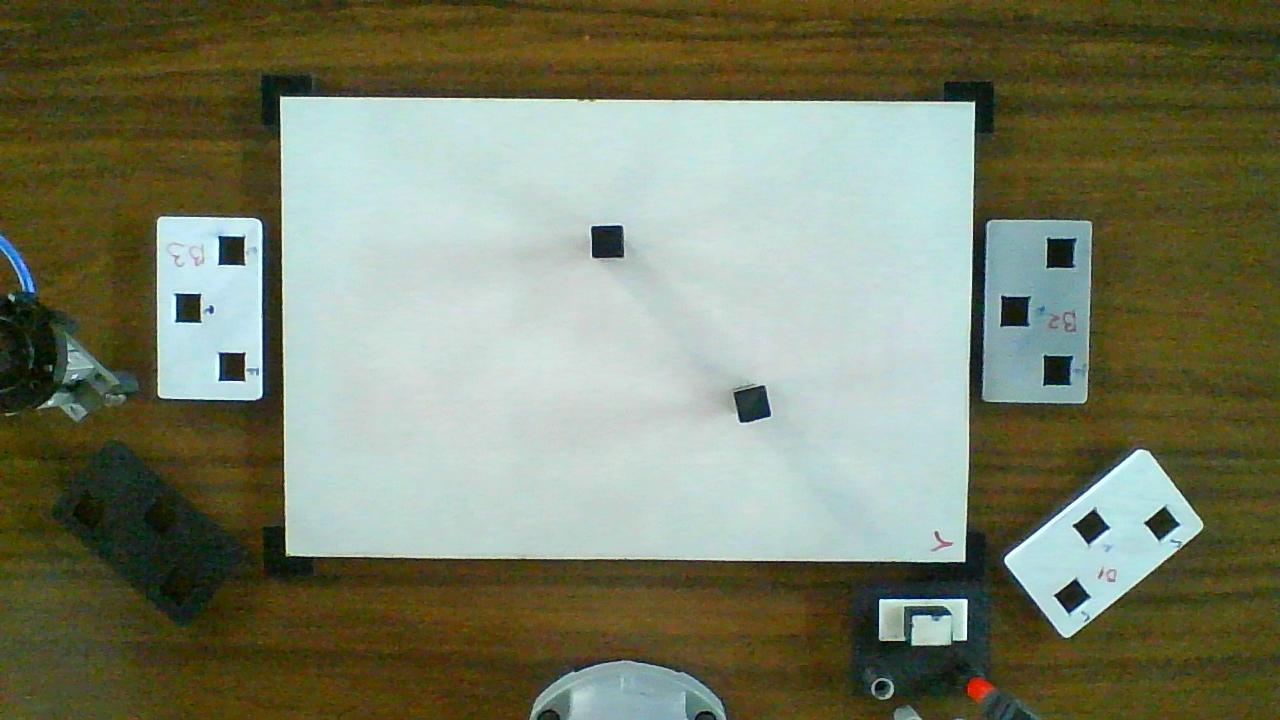peca_preta: (735, 387, 771, 423), (592, 227, 622, 257)
